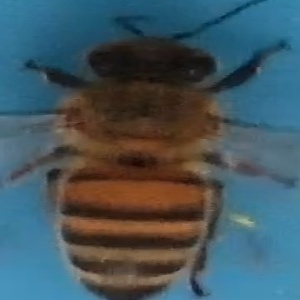bee: (13, 15, 292, 300)
